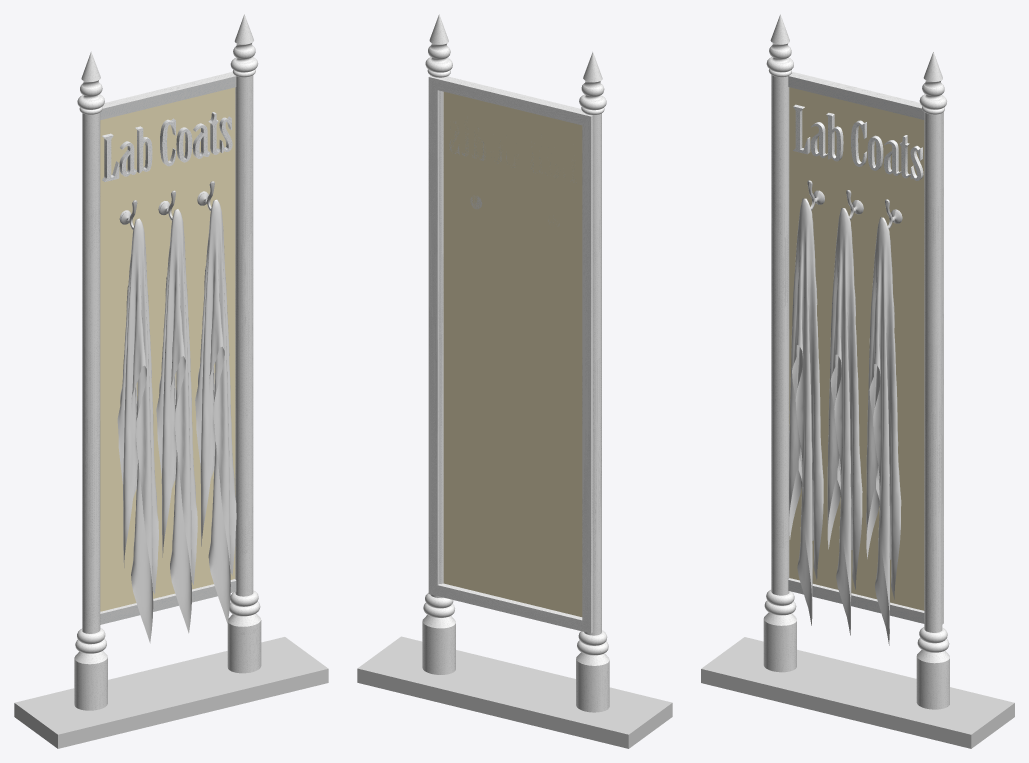
The picture shows the model from 3 angles, left to right: view 1: azimuth 30°, elevation 25°; view 2: azimuth 150°, elevation 25°; view 3: azimuth 330°, elevation 25°; orthographic projection.
Visible parts, largest first — view 1: group_3.001, group_1, group_2, group_5, group_4, group_7, group_6, group_4.001, group_3; view 2: group_3.001, group_3, group_4, group_1, group_2; view 3: group_3.001, group_2, group_1, group_4, group_7, group_5, group_6, group_3, group_4.001.
Part boxes in pixels (box(x1,y1,x2,y2)): group_3.001: box(100, 87, 235, 611); group_1: box(74, 51, 107, 710); group_2: box(227, 14, 261, 673); group_5: box(117, 218, 158, 643); group_4: box(14, 637, 328, 748); group_7: box(156, 209, 197, 633); group_6: box(195, 199, 236, 623); group_4.001: box(58, 669, 328, 748); group_3: box(100, 71, 236, 624); group_3.001: box(443, 92, 582, 616); group_3: box(428, 75, 592, 633); group_4: box(357, 636, 672, 748); group_1: box(576, 52, 609, 712); group_2: box(422, 14, 455, 674); group_3.001: box(789, 87, 924, 610); group_2: box(916, 52, 949, 709); group_1: box(763, 14, 796, 672); group_4: box(701, 637, 1014, 748); group_7: box(827, 208, 862, 635); group_5: box(789, 198, 823, 625); group_6: box(866, 217, 901, 645); group_3: box(788, 71, 943, 624); group_4.001: box(701, 669, 971, 748).
Size of the model in its own units: 1.14 by 0.3198 by 2.69.
